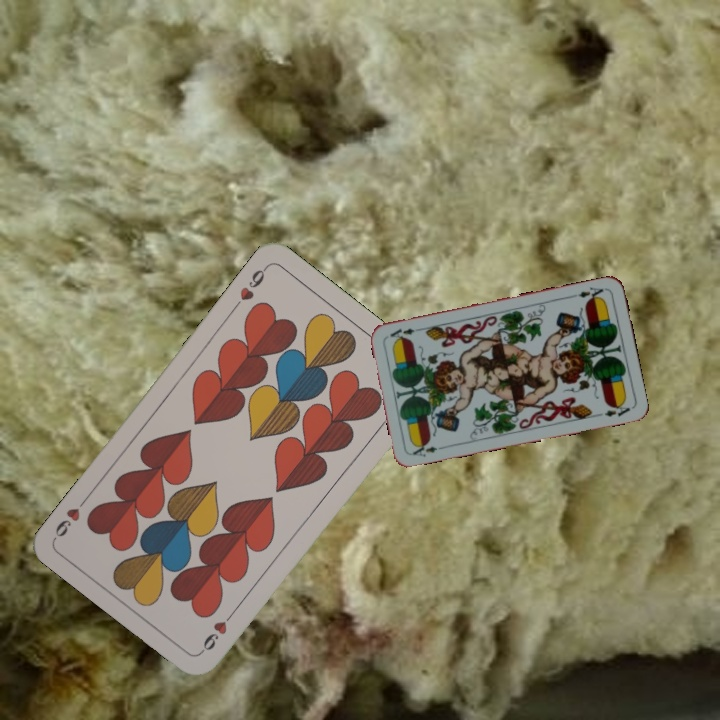EA: (409, 439, 448, 459), (574, 283, 608, 304)
H9: (229, 262, 271, 312), (197, 605, 239, 655)
